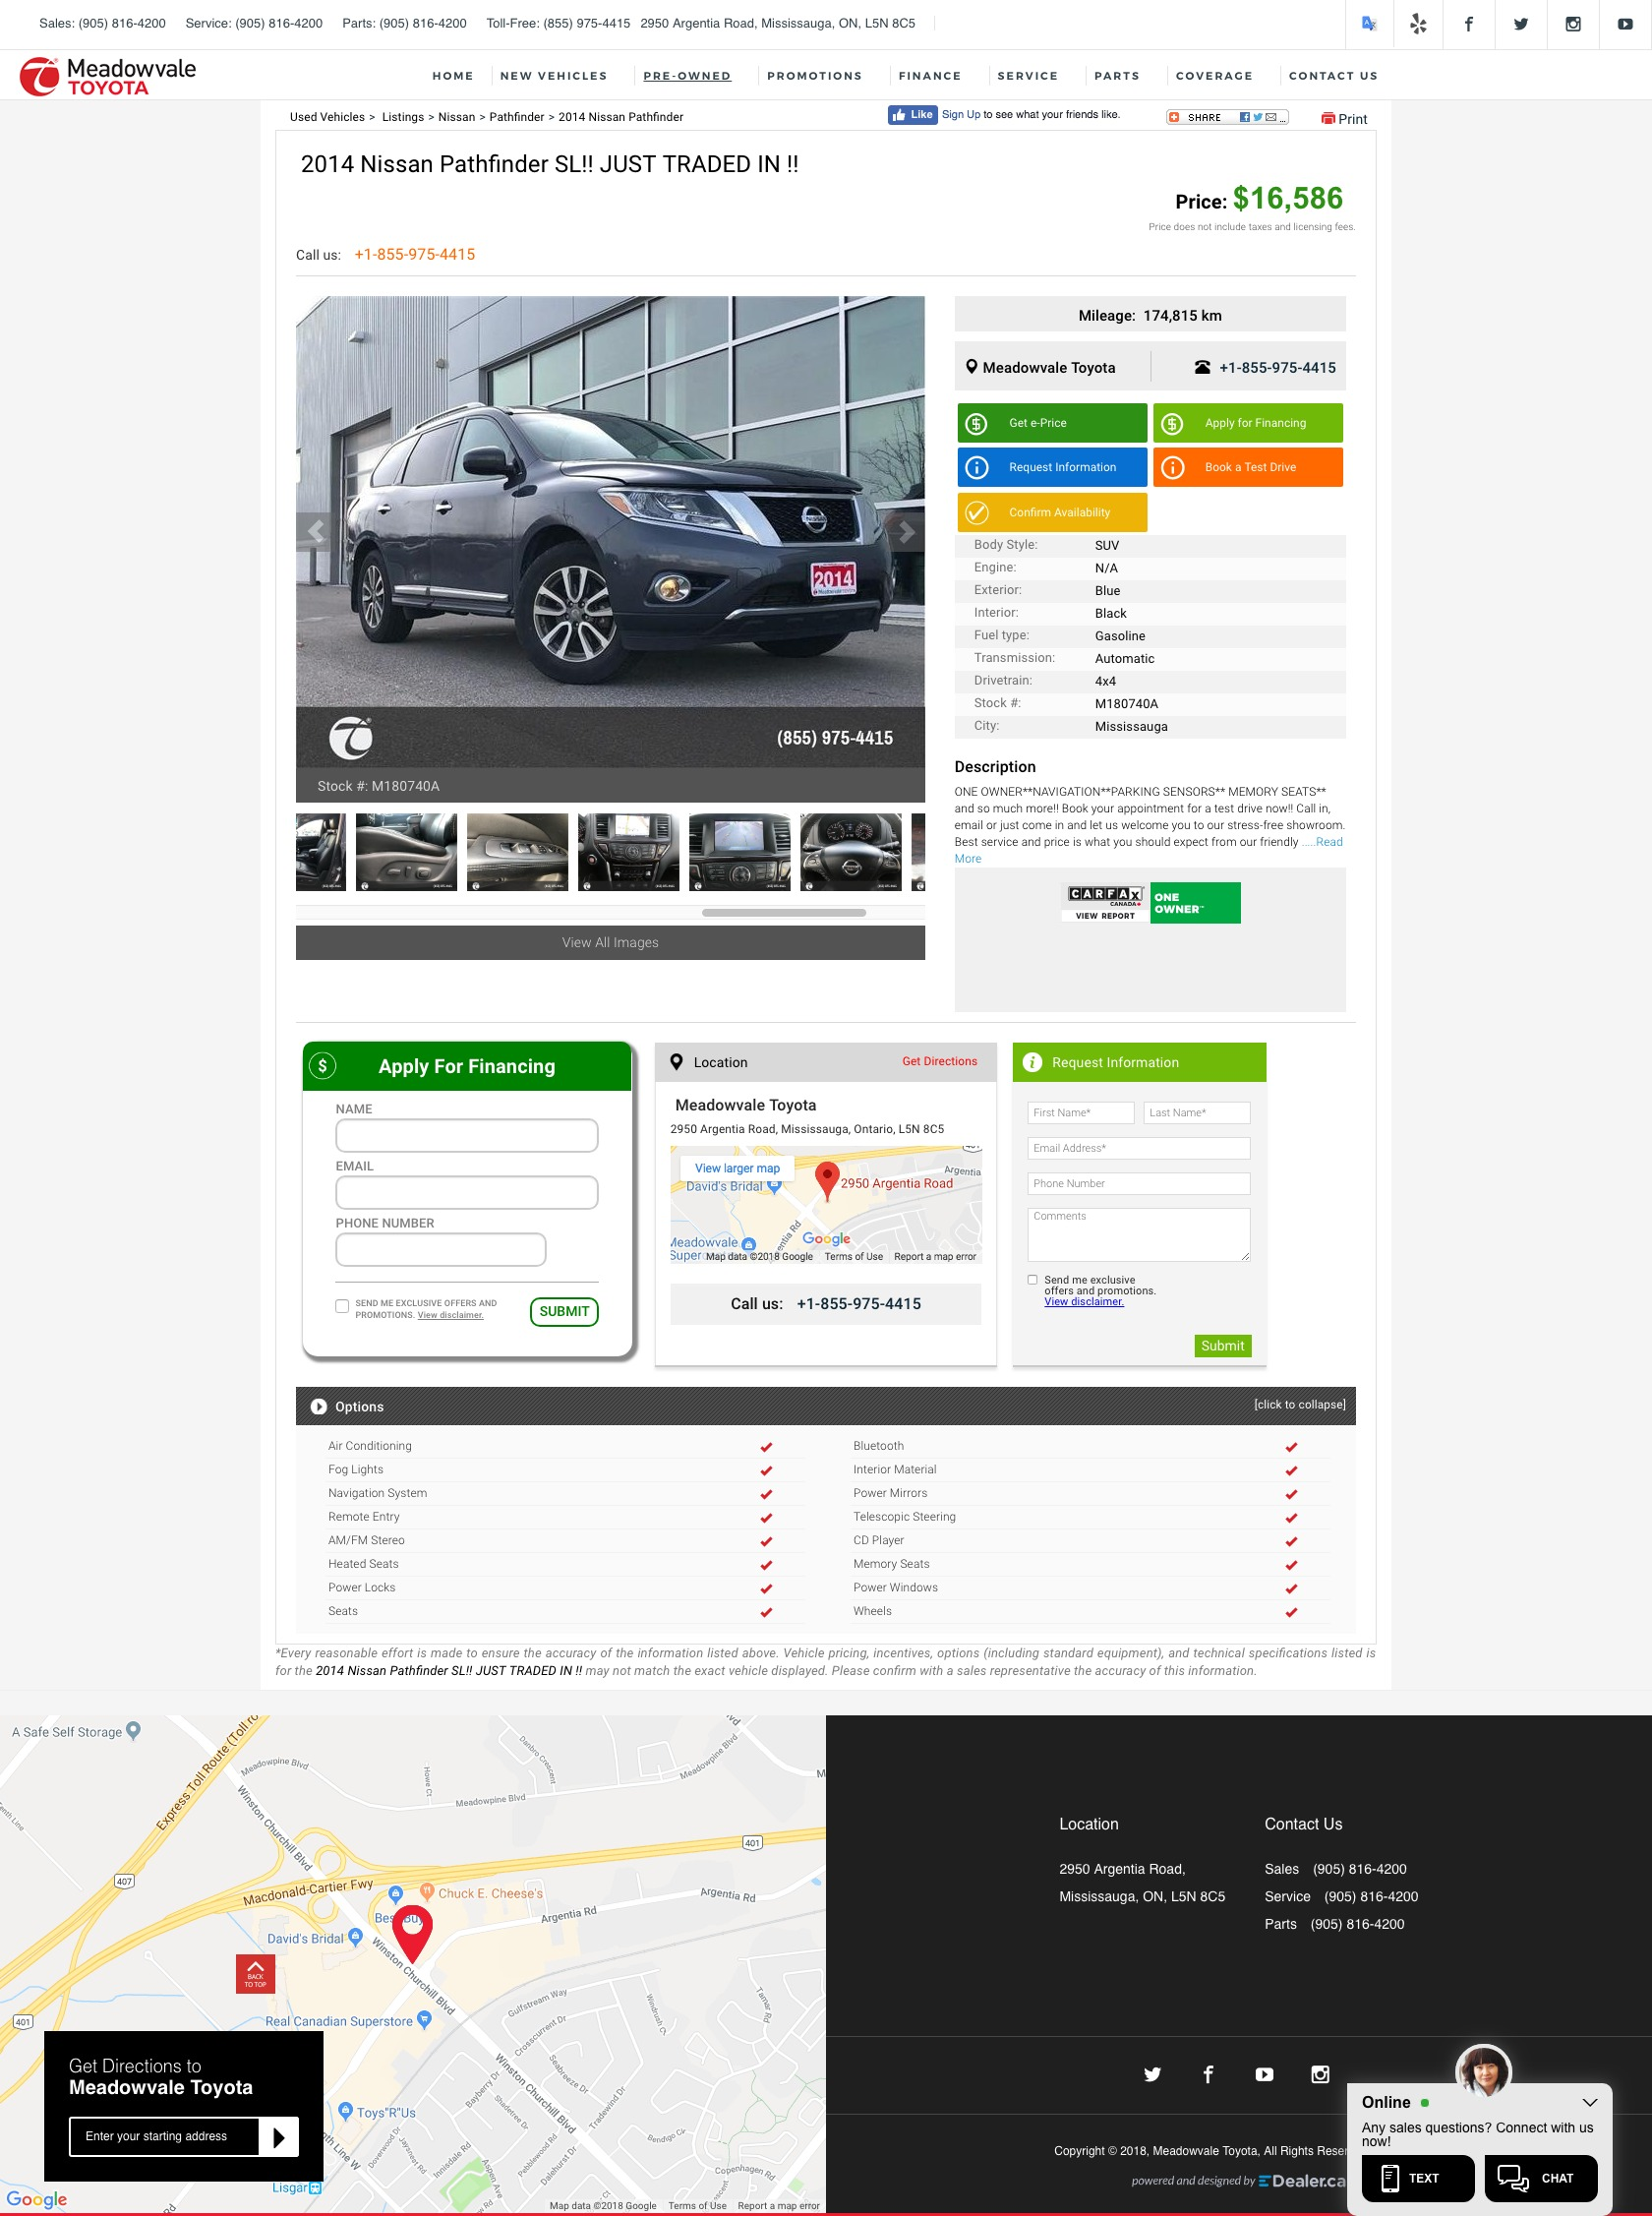car: (899, 521, 918, 545)
